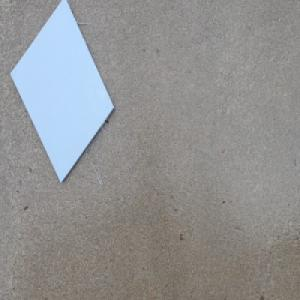PaintChip: (9, 0, 115, 184)
